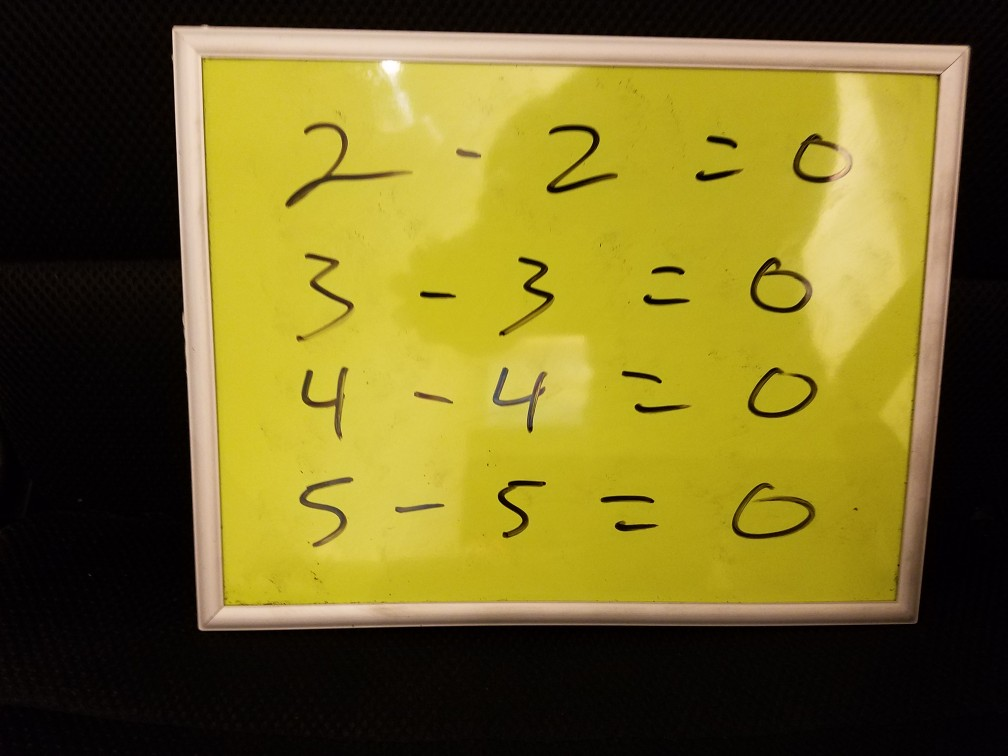-: (388, 488, 454, 526), (407, 275, 465, 310), (407, 379, 459, 417), (451, 138, 486, 166)
0: (726, 476, 824, 547), (745, 247, 820, 323), (739, 360, 824, 426), (788, 127, 860, 193)
2: (283, 111, 415, 220), (538, 116, 629, 204)
3: (492, 236, 564, 344), (287, 246, 358, 347)
4: (485, 360, 554, 440), (293, 359, 354, 445)
5: (291, 469, 360, 554), (486, 470, 551, 551)
=: (606, 353, 695, 423), (687, 120, 751, 191), (589, 482, 669, 538), (636, 253, 694, 313)
